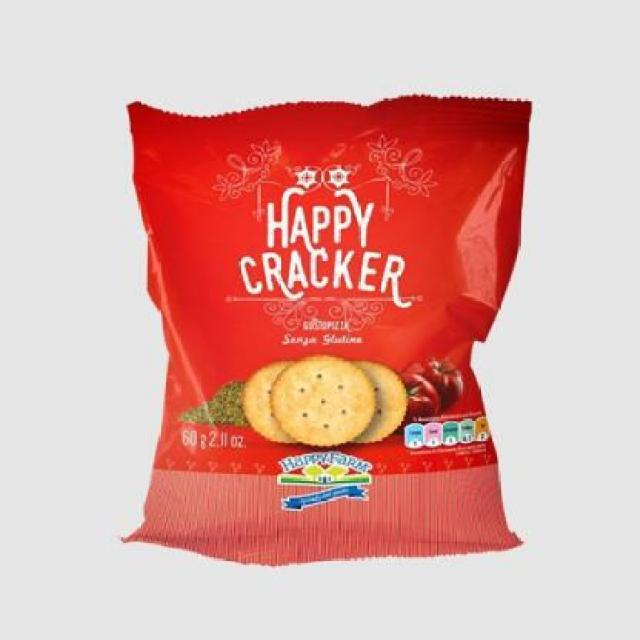Ritz cracker: (117, 95, 551, 572)
